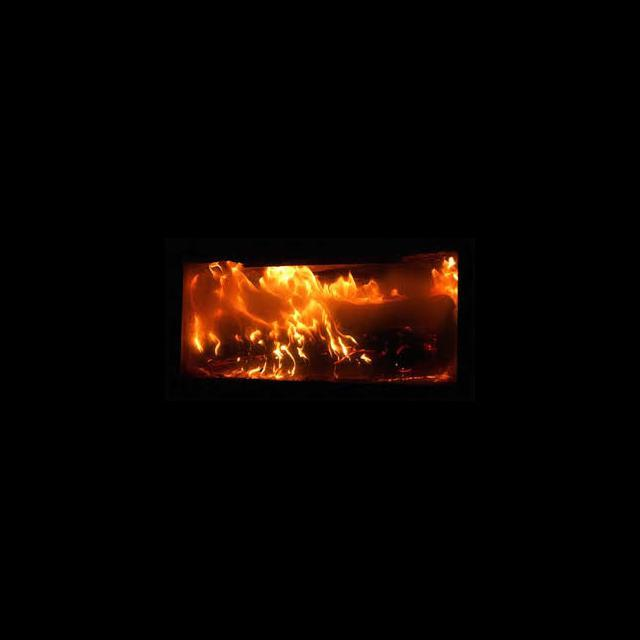Fire: (184, 264, 457, 384)
